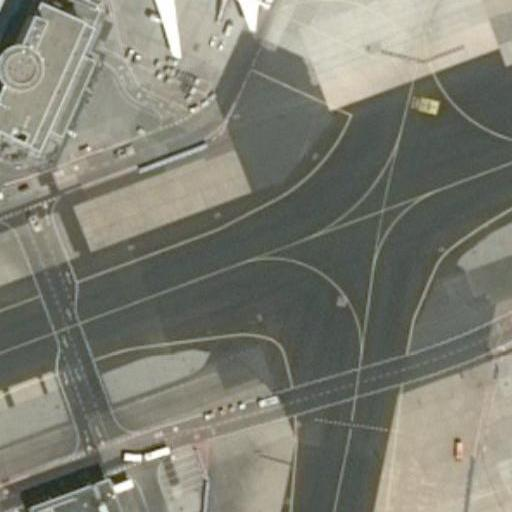Aircraft: (78, 0, 278, 58)
